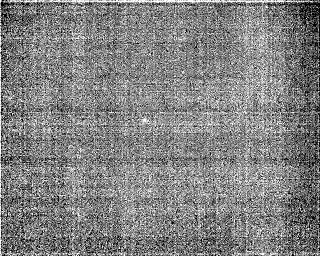AIRPLANE: (141, 115, 149, 126)
